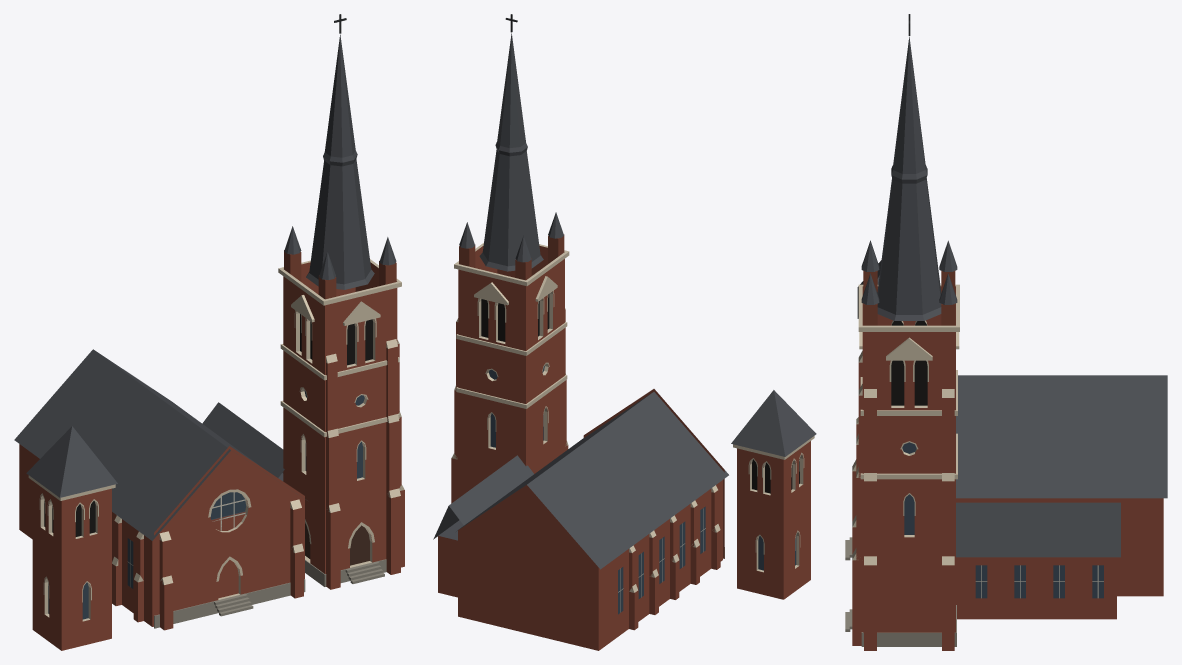
The model's file is christ-church-1887.glb.
3 views of the same model, side by side, from view 1: azimuth 30°, elevation 25°; view 2: azimuth 150°, elevation 25°; view 3: azimuth 270°, elevation 25° (orthographic). The views are drawn at different scales.
Visible parts, largest first — view 1: christ_brick, christ_slate, christ_trim, christ_base, christ_stain, christ_shadow, christ_brick2, christ_door; view 2: christ_brick, christ_slate, christ_trim, christ_stain, christ_shadow, christ_brick2; view 3: christ_slate, christ_brick, christ_trim, christ_stain, christ_base, christ_shadow, christ_brick2.
Boxes of the visible parts, box(x1,y1,x2,y2) form: christ_brick: box(19, 262, 404, 650); christ_slate: box(14, 34, 396, 540); christ_trim: box(28, 259, 404, 621); christ_base: box(154, 559, 386, 628); christ_stain: box(48, 390, 364, 619); christ_shadow: box(44, 314, 372, 536); christ_brick2: box(284, 250, 396, 299); christ_door: box(305, 522, 369, 565); christ_brick: box(438, 245, 810, 650); christ_slate: box(433, 33, 816, 569); christ_trim: box(451, 243, 814, 592); christ_stain: box(489, 365, 796, 614); christ_shadow: box(481, 294, 799, 493); christ_brick2: box(459, 234, 564, 280); christ_slate: box(857, 36, 1167, 557); christ_brick: box(852, 286, 1163, 650); christ_trim: box(852, 284, 959, 565); christ_stain: box(902, 442, 1103, 598); christ_base: box(845, 537, 956, 646); christ_shadow: box(891, 321, 927, 405); christ_brick2: box(863, 271, 955, 325).
Bounding box in the file's own units: 34.6 × 52.1 × 24.83.
